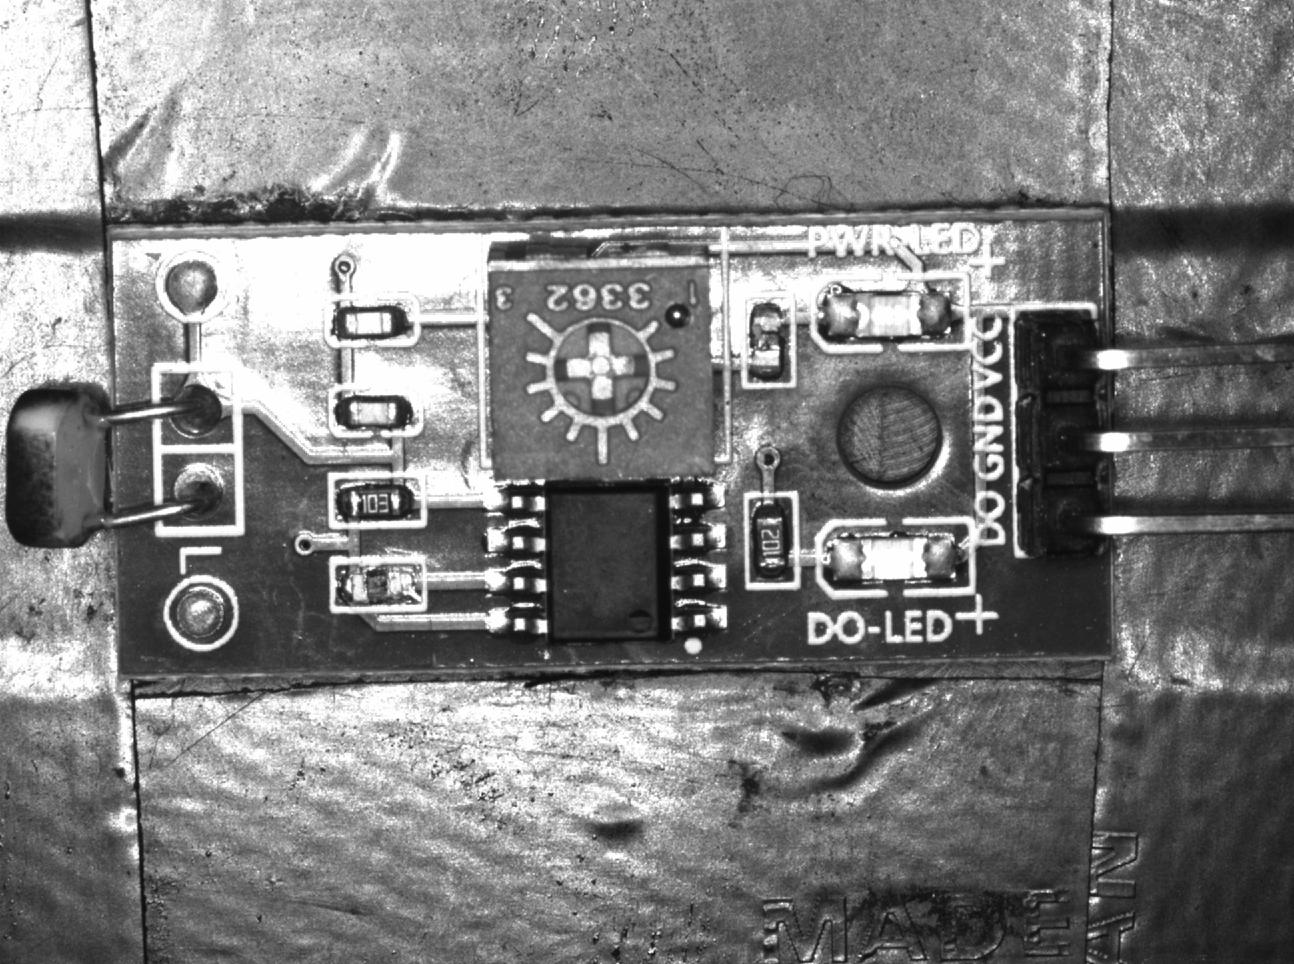miss: (333, 558, 428, 613), (740, 291, 795, 385)
ok: (328, 294, 419, 351), (330, 385, 425, 439), (744, 490, 798, 586), (331, 475, 425, 525)
